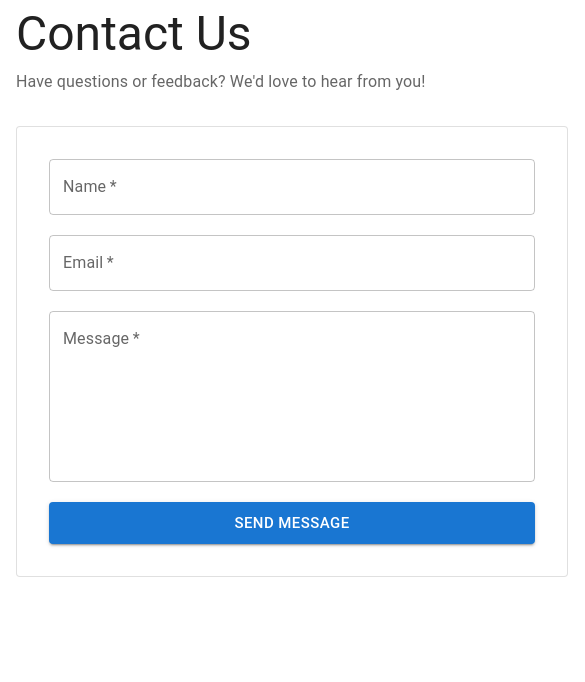
Test: ContactUs Component › shows error message on failed submission
This screenshot has width=585, height=682.
Type "John Doe" into the field labelled "Name *".
click(292, 187); type("John Doe")  # box x1=49 y1=159 x2=535 y2=215
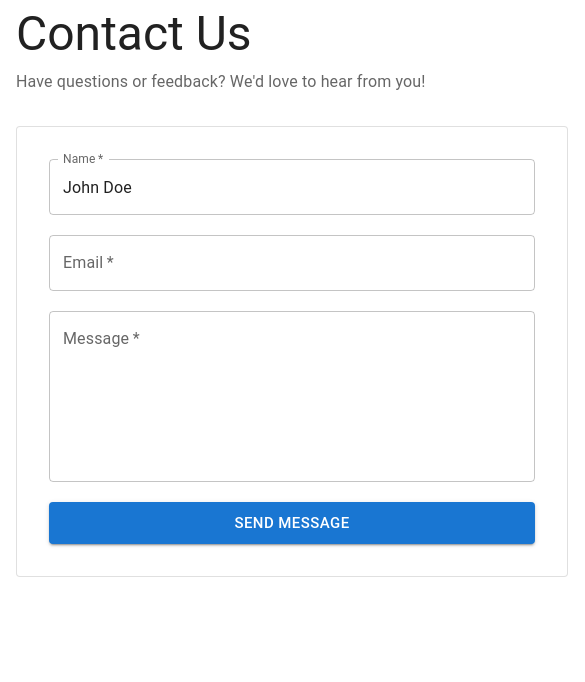
Type "john@example.com" into the field labelled "Email *".
click(292, 263); type("john@example.com")  # box x1=49 y1=235 x2=535 y2=291
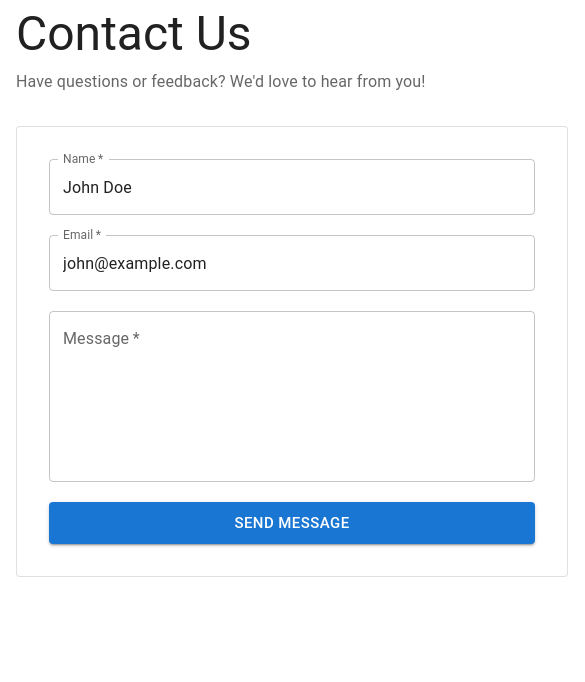
Type "Test message" into the text box labelled "Message *".
click(292, 396); type("Test message")  # box x1=63 y1=328 x2=521 y2=466
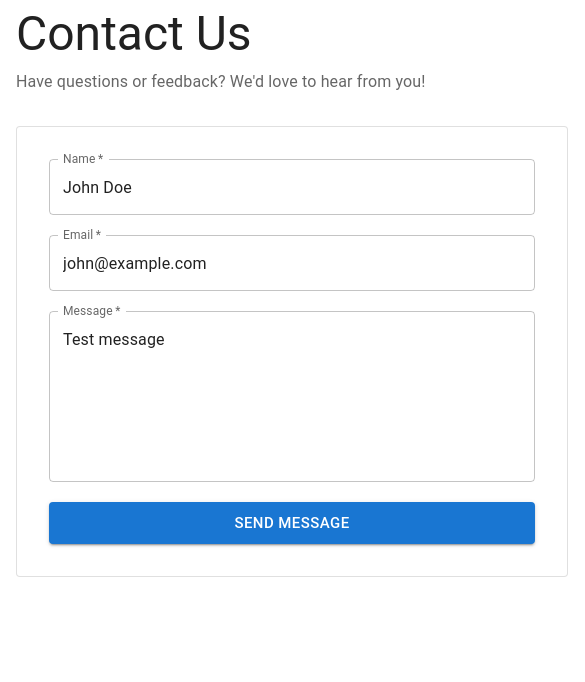
Click the button "Send Message".
click(292, 523)  # box x1=49 y1=502 x2=535 y2=544
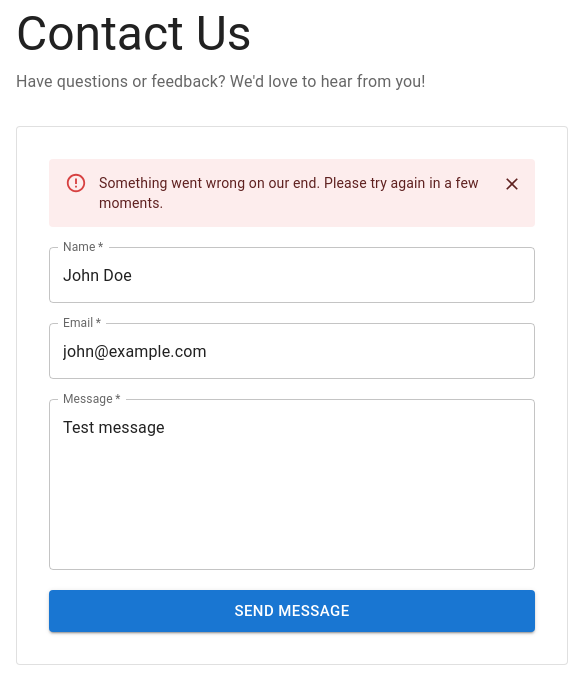
expect the text "Something went wrong on our end" is shown: met, box x1=99 y1=175 x2=479 y2=211
